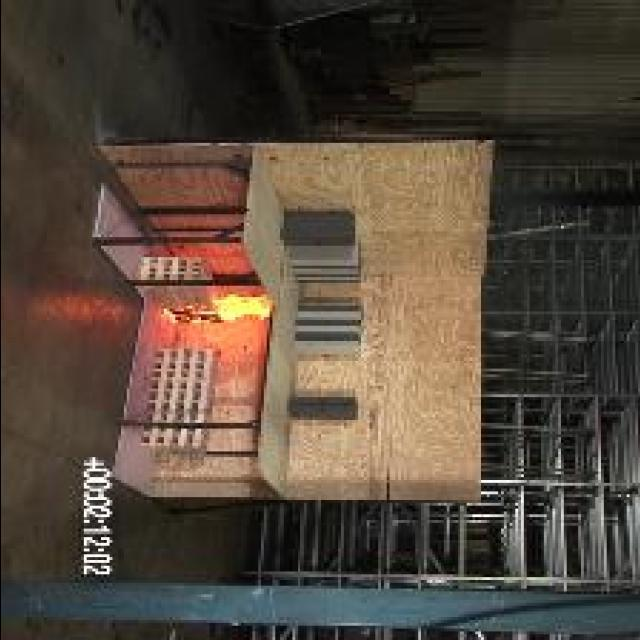Fire: (213, 291, 273, 323)
